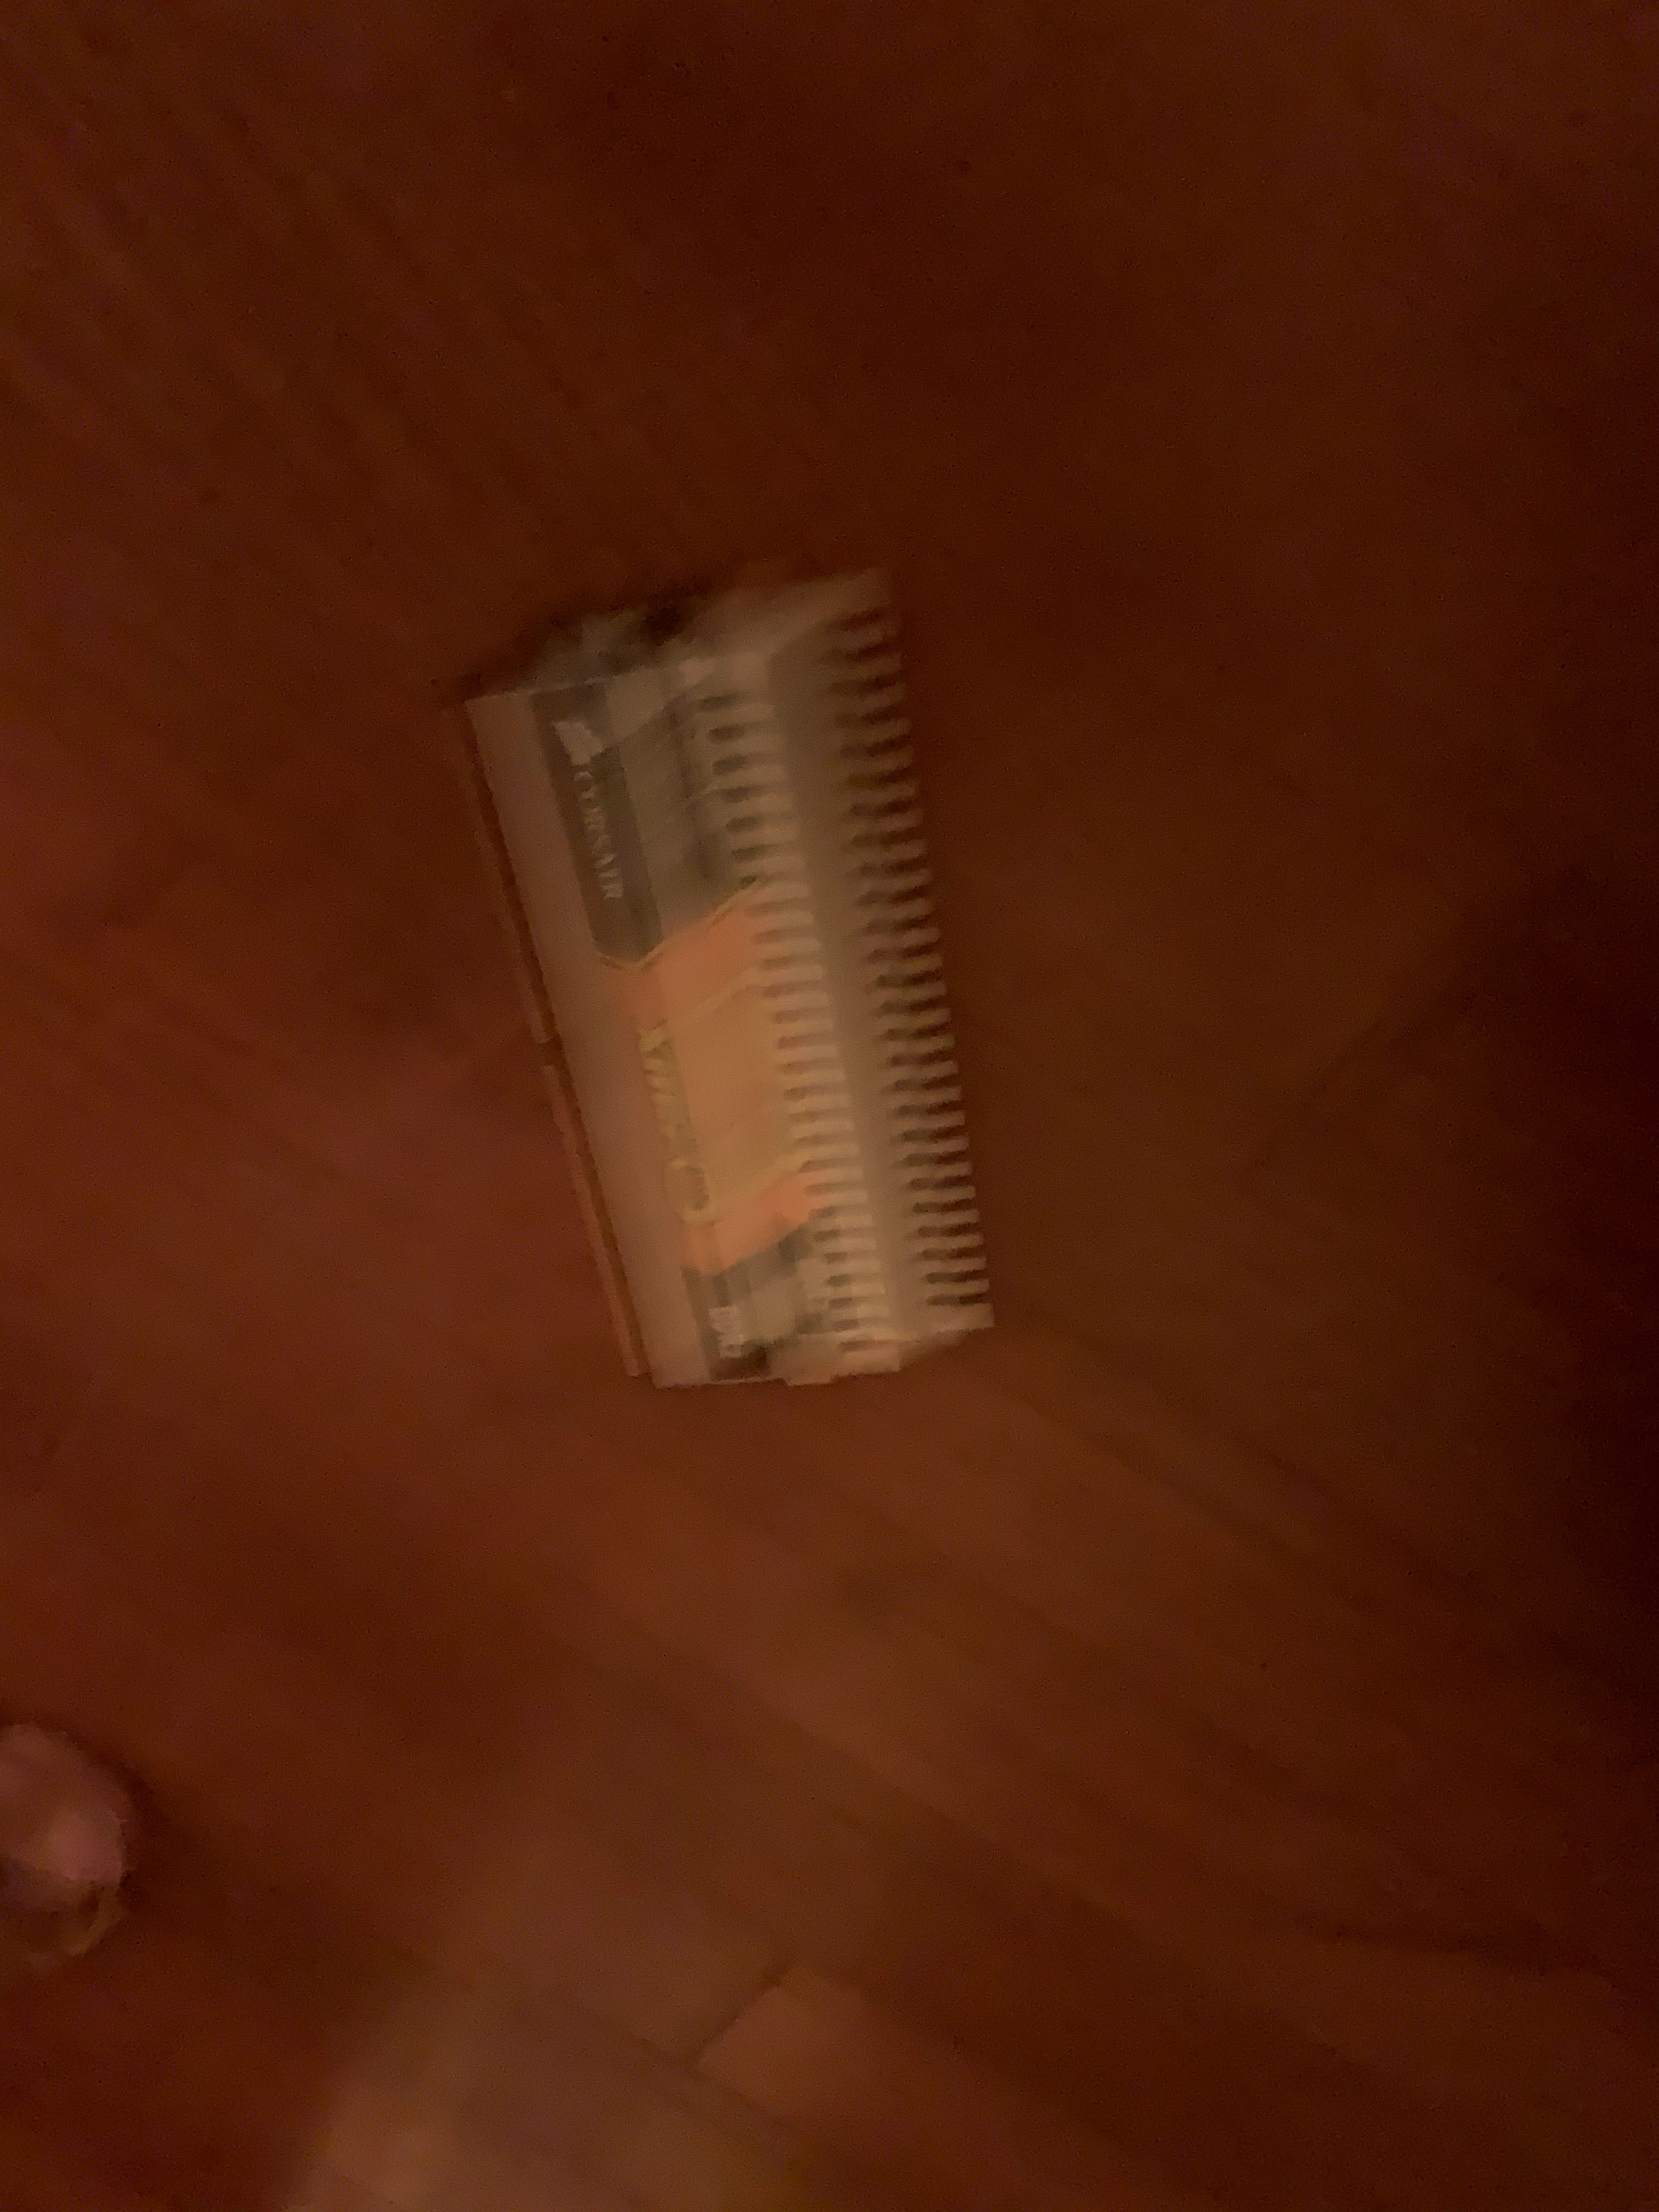Space-debris-medium: (382, 547, 1105, 1425)
